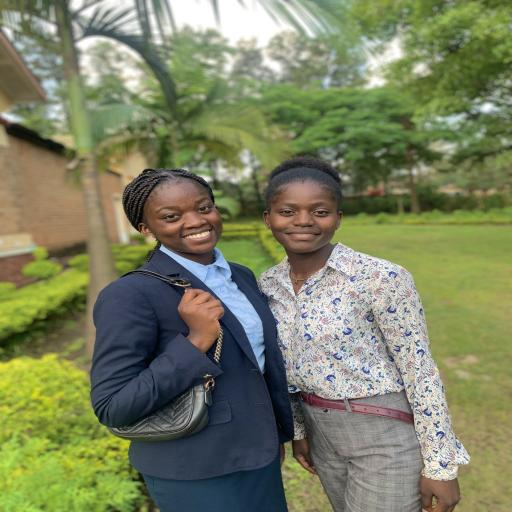LAURENE: (110, 160, 241, 263)
